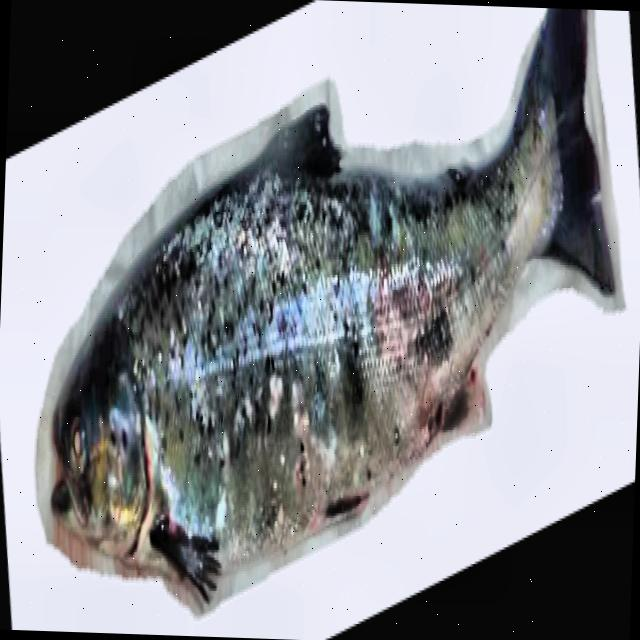mild_red: (144, 167, 518, 560)
